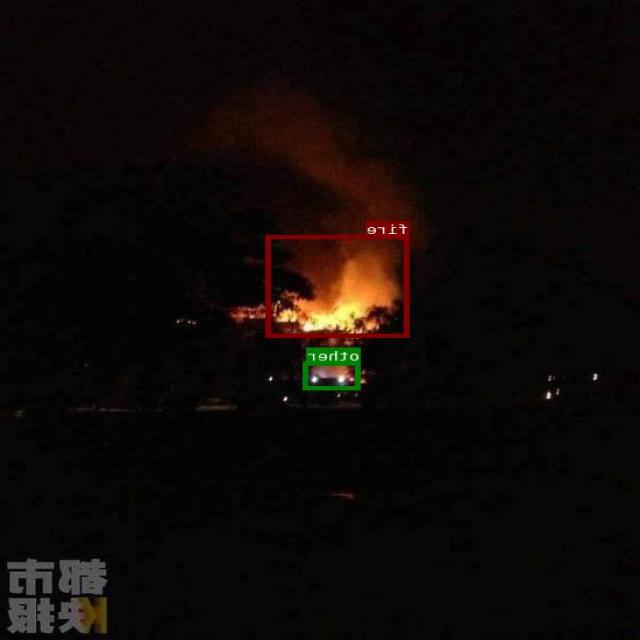fire: (268, 235, 410, 336)
other: (304, 361, 362, 389)
